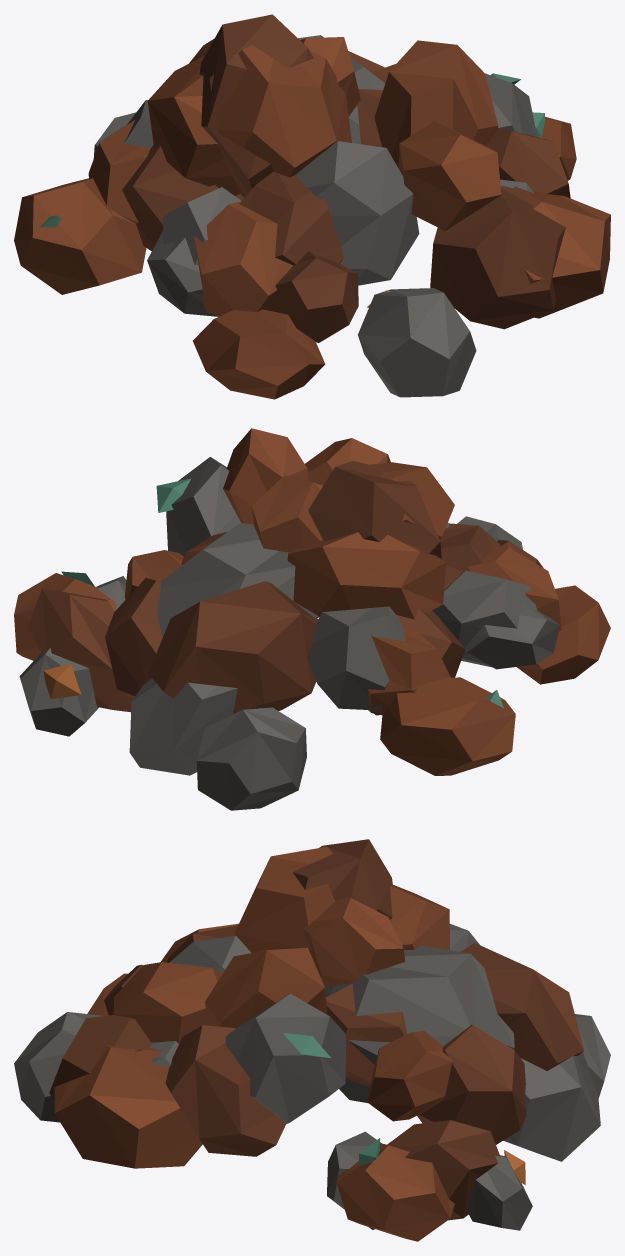
Rendered from ore-pile.glb.
The picture shows the model from 3 angles, top to bottom: view 1: azimuth 30°, elevation 25°; view 2: azimuth 150°, elevation 25°; view 3: azimuth 270°, elevation 25°; orthographic projection. The views are drawn at different scales.
Visible parts, largest first — view 1: ore-pile; view 2: ore-pile; view 3: ore-pile.
Boxes of the visible parts, box(x1,y1,x2,y2) form: ore-pile: box(14, 14, 610, 399); ore-pile: box(14, 428, 610, 810); ore-pile: box(14, 839, 610, 1241).
Bounding box in the file's own units: 2 × 1 × 2.
